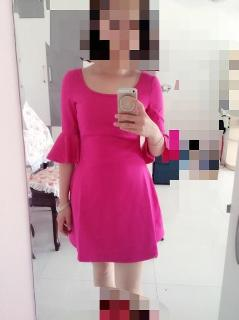long sleeve dress: (46, 68, 171, 263)
